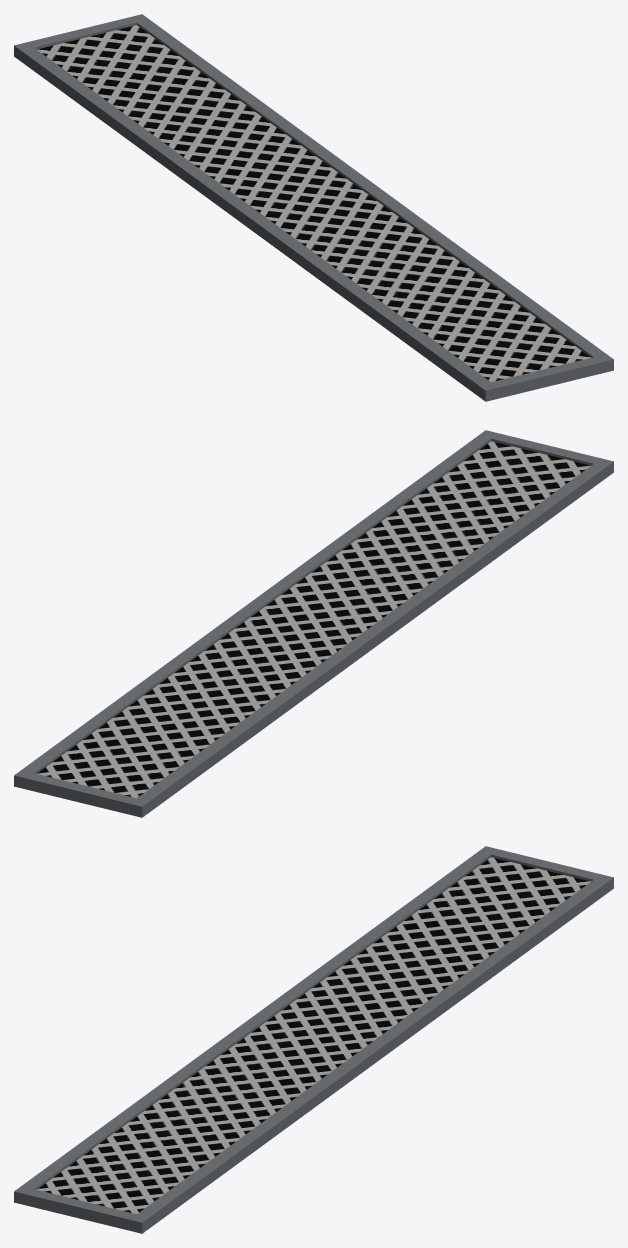
File: LightGreyMetalFloorLongLatticePlatform1.fbx
The picture shows the model from 3 angles, top to bottom: view 1: azimuth 30°, elevation 25°; view 2: azimuth 150°, elevation 25°; view 3: azimuth 330°, elevation 25°; orthographic projection.
Visible parts, largest first — view 1: GridTop1, Frame; view 2: GridTop1, Frame; view 3: GridTop1, Frame.
Boxes of the visible parts, box(x1,y1,x2,y2) form: GridTop1: box(37, 25, 590, 382); Frame: box(14, 14, 613, 401); GridTop1: box(37, 441, 590, 798); Frame: box(14, 430, 613, 817); GridTop1: box(37, 857, 590, 1214); Frame: box(14, 846, 613, 1233).
Size of the model in its own units: 332 by 27.41 by 2115.
3 materials, 2 textured.
